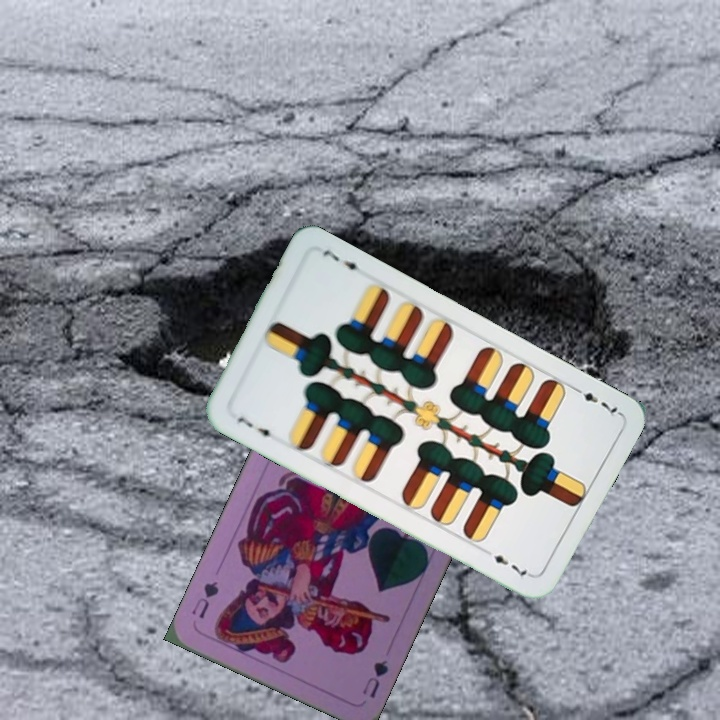E7: (568, 382, 622, 420), (232, 412, 277, 443)
GU: (358, 655, 391, 701)
